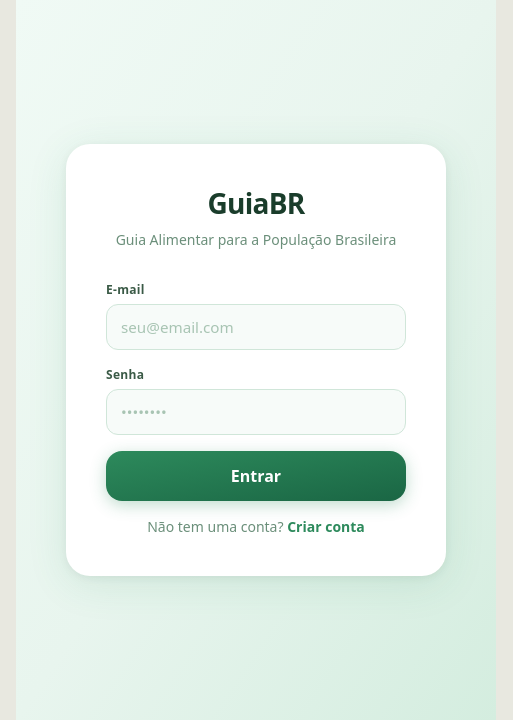
Test: Login › mostra mensagem generica quando a API falha inesperadamente
Step 1. Type "teste@guiabr.com" into the field with id "email" → (256, 327), box [106,304,406,350]
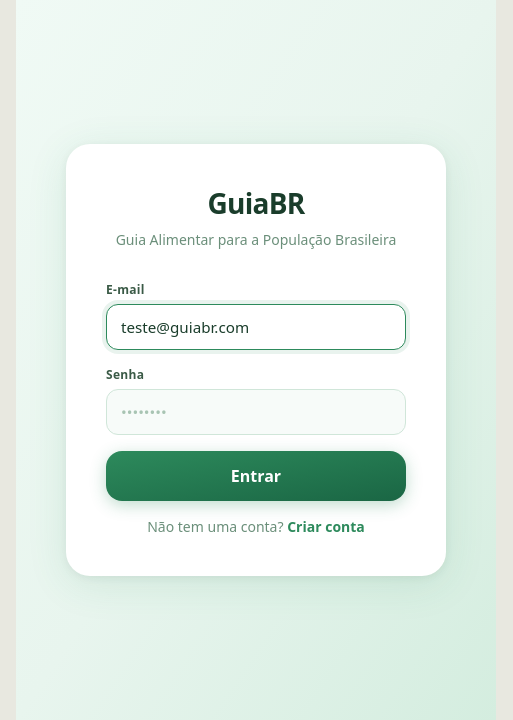
Step 2. Type "senha123" into the password field with id "senha" → (256, 412), box [106,389,406,435]
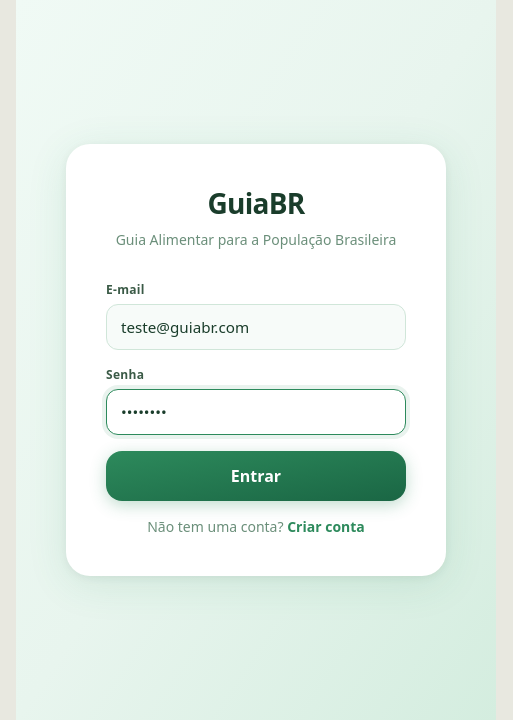
Step 3. Click the submit button → (256, 476), box [106,451,406,501]
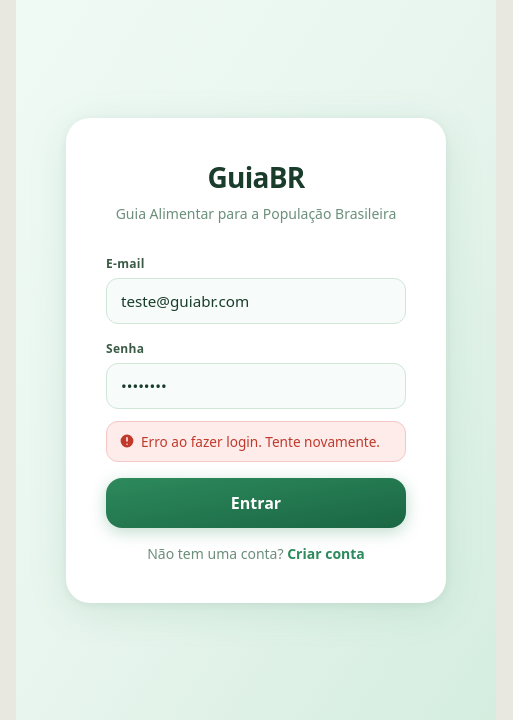
Expected: the text "Erro ao fazer login. Tente novamente." is shown, [106,420,406,462]
